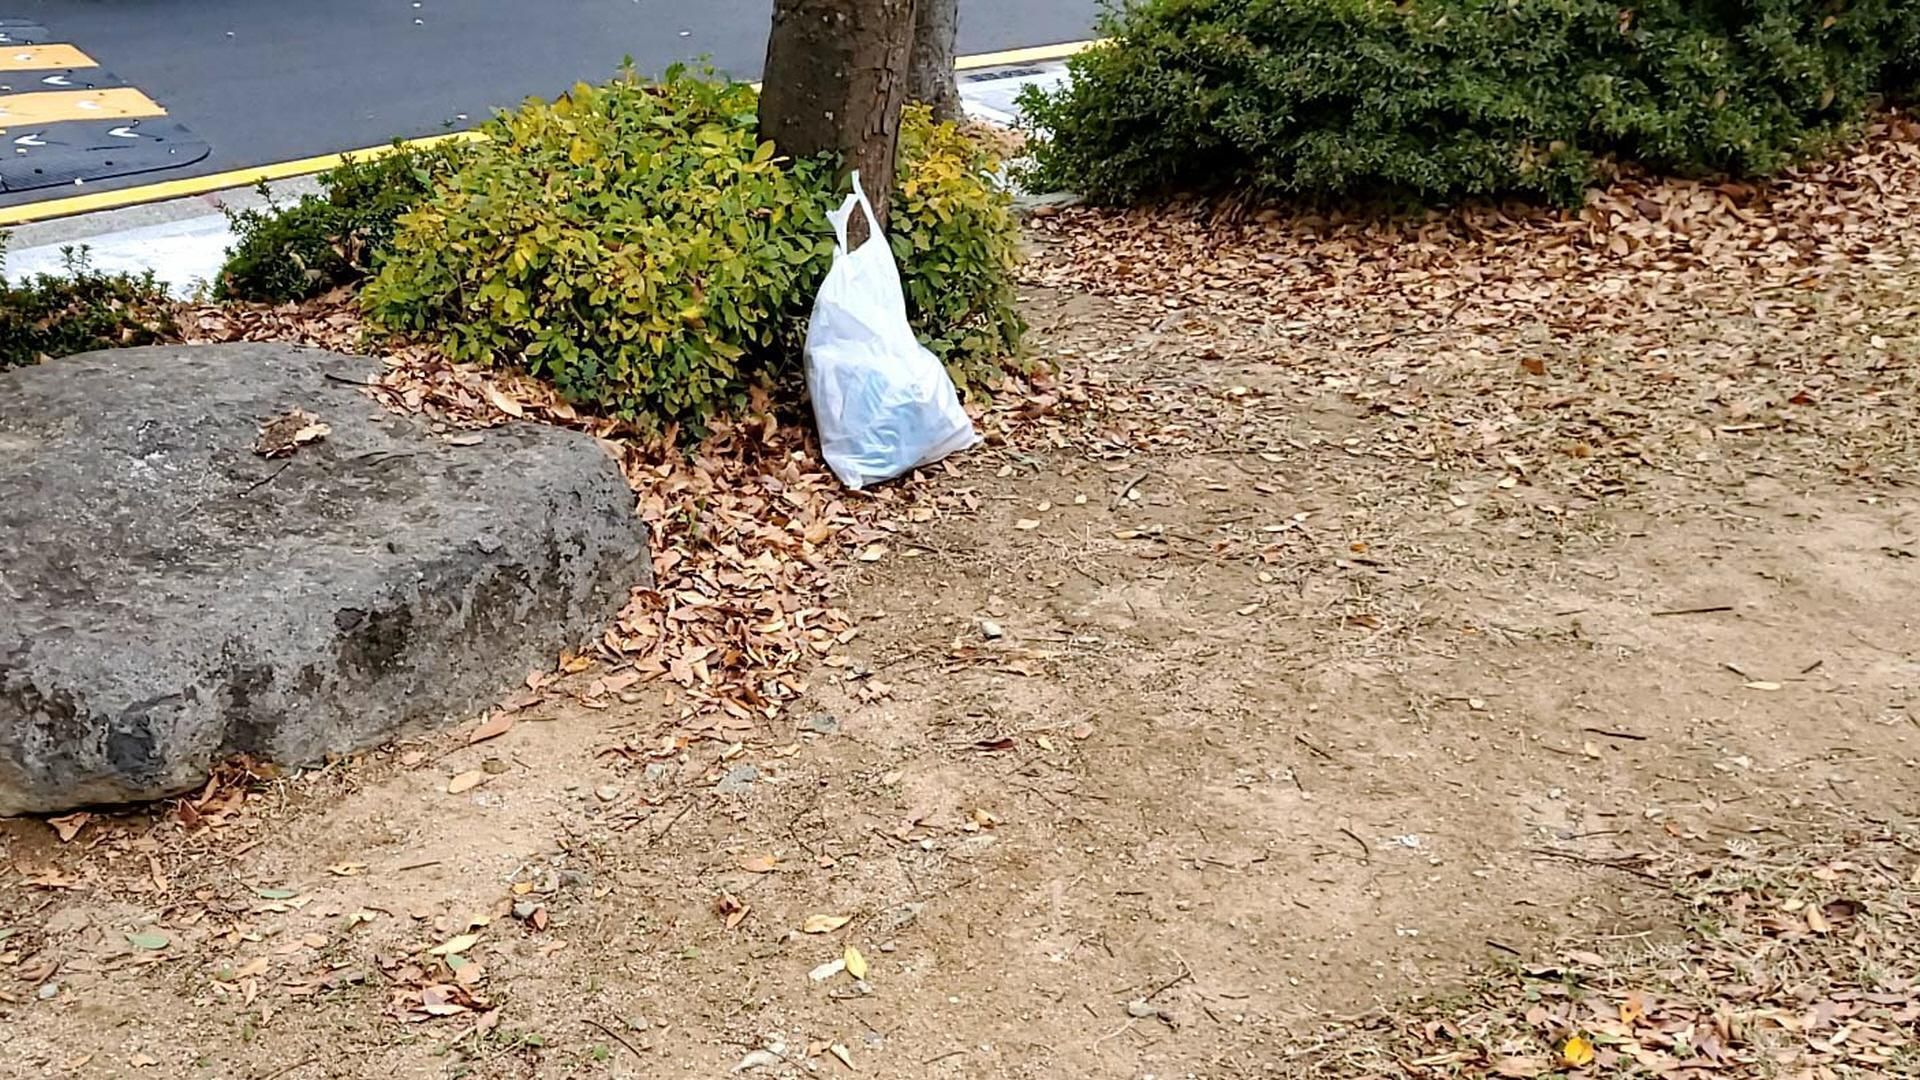white_bag: (775, 156, 989, 497)
